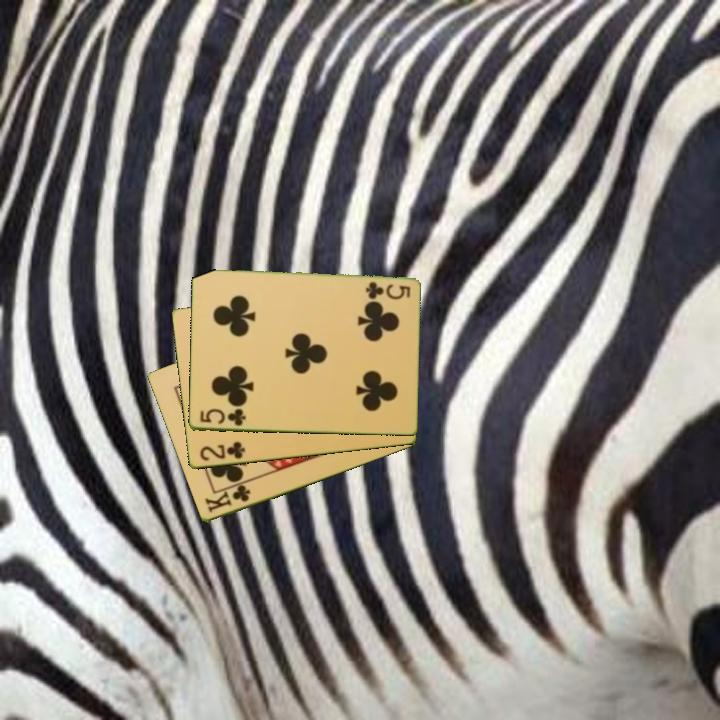2c: (196, 438, 248, 464)
5c: (196, 405, 248, 429), (362, 278, 413, 300)
Kc: (201, 482, 253, 516)
